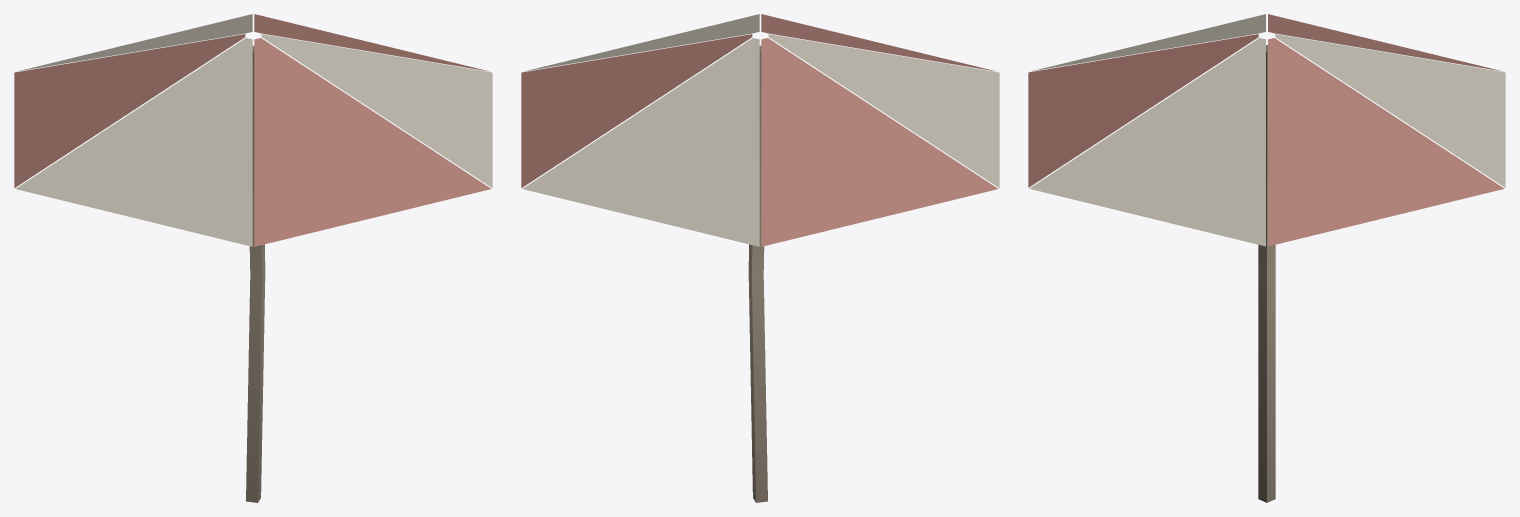
The model's file is parasol.lod2.glb.
3 renders of one model, left to right at view 1: azimuth 30°, elevation 25°; view 2: azimuth 150°, elevation 25°; view 3: azimuth 270°, elevation 25°, orthographic.
Bounding box in the file's own units: 2.21 × 2.06 × 1.92.
